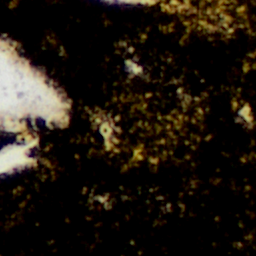cement_matrix: (0, 0, 255, 255), (98, 118, 115, 147), (0, 131, 18, 148), (166, 0, 185, 9), (128, 62, 140, 74), (240, 107, 250, 120)
gravel_crushed_stones: (0, 38, 68, 175), (99, 119, 114, 146), (105, 0, 155, 4), (167, 1, 184, 8), (129, 63, 139, 73), (241, 108, 249, 119)
